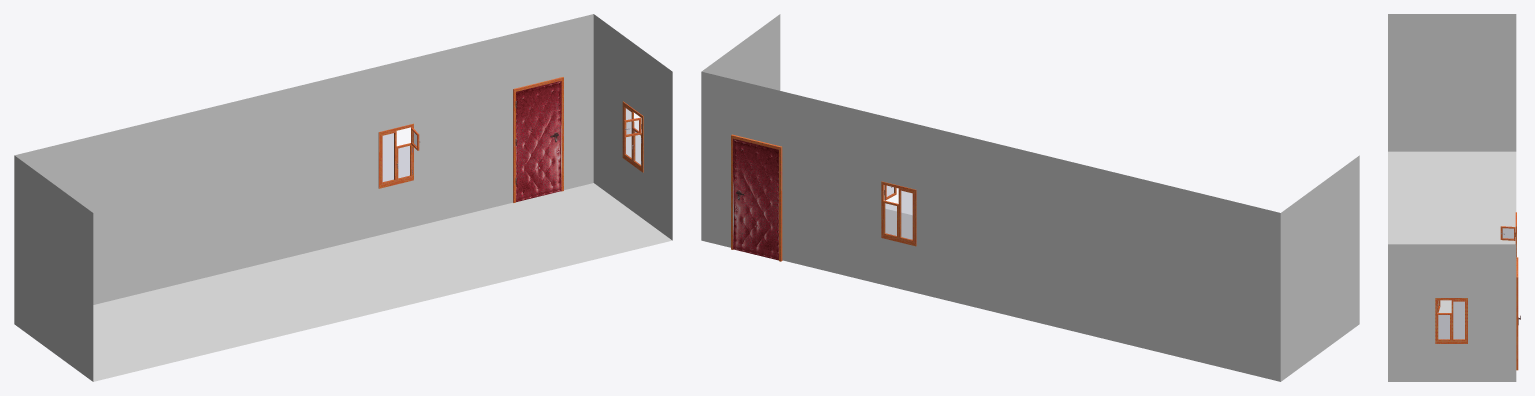
Rendered from windows&door&room.fbx.
3 views of the same model, side by side, from view 1: azimuth 30°, elevation 25°; view 2: azimuth 150°, elevation 25°; view 3: azimuth 270°, elevation 25° (orthographic). The views are drawn at different scales.
Visible parts, largest first — view 1: room, door, main windows.001, main windows, jamb door; view 2: room, door, main windows.001, jamb door; view 3: room, main windows, jamb door, window leaf.001.
Part boxes in pixels (box(x1,y1,x2,y2)): room: box(14, 14, 672, 381); door: box(515, 81, 561, 202); main windows.001: box(378, 123, 413, 188); main windows: box(622, 101, 643, 172); jamb door: box(513, 77, 563, 202); room: box(701, 14, 1359, 381); door: box(733, 138, 778, 260); main windows.001: box(881, 181, 916, 246); jamb door: box(731, 134, 782, 261); room: box(1388, 14, 1516, 381); main windows: box(1435, 298, 1467, 343); jamb door: box(1516, 257, 1518, 370); window leaf.001: box(1500, 226, 1515, 240).
Bounding box in the file's own units: 1805 × 504 × 439.
